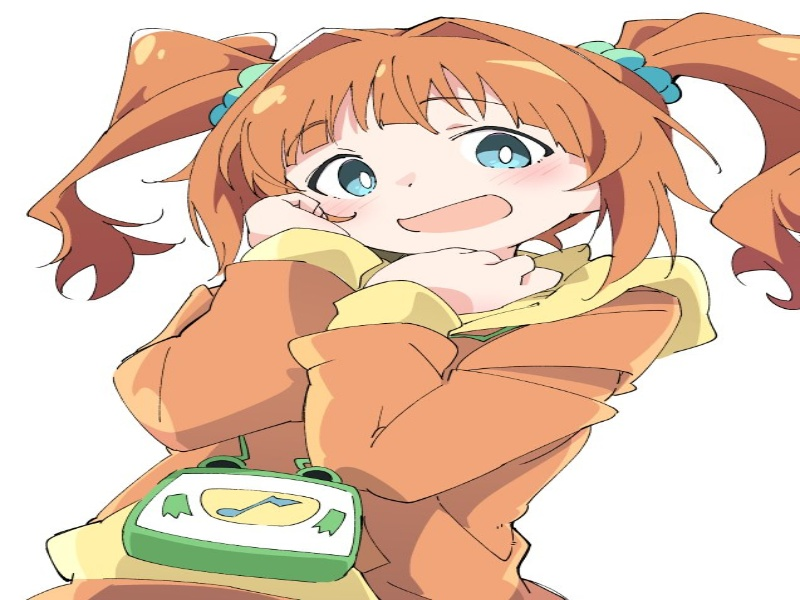person: (238, 32, 631, 282)
